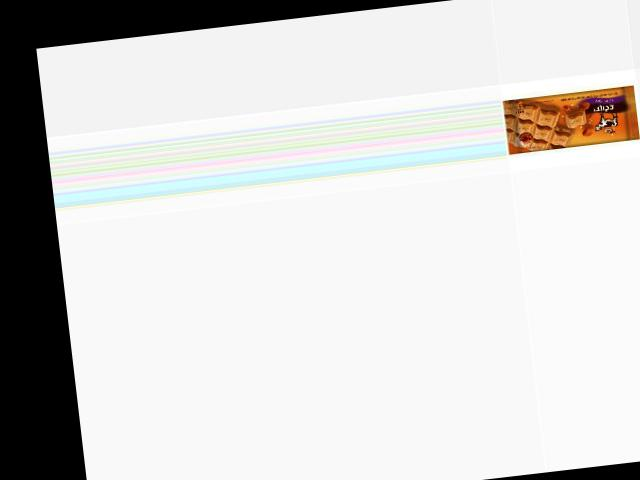chocolate: (502, 81, 640, 154)
